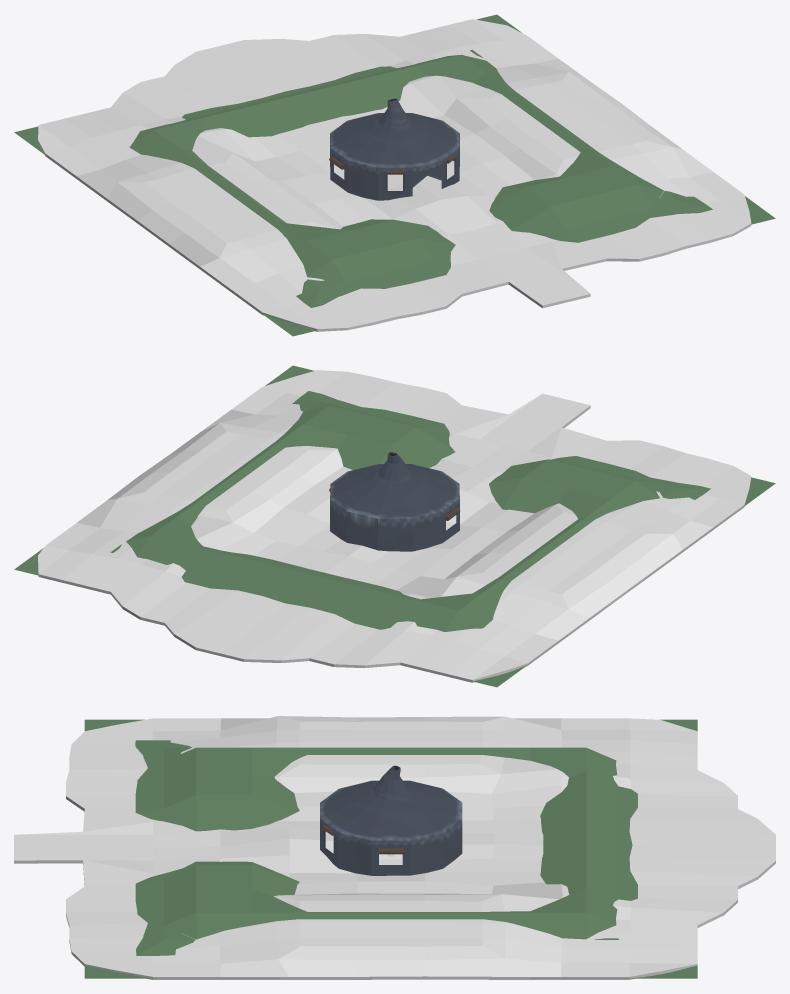
The model's file is lobi.glb.
3 renders of one model, top to bottom at view 1: azimuth 30°, elevation 25°; view 2: azimuth 150°, elevation 25°; view 3: azimuth 270°, elevation 25°, orthographic. The views are drawn at different scales.
Visible parts, largest first — view 1: Lobi_Terrain, Plane, RoundHouse; view 2: Lobi_Terrain, Plane, RoundHouse; view 3: Lobi_Terrain, Plane, RoundHouse.
Part boxes in pixels (x1,y1,x2,y2): Lobi_Terrain: (38,19,751,331); Plane: (14,14,775,336); RoundHouse: (329,98,460,200); Lobi_Terrain: (38,370,751,682); Plane: (14,365,775,687); RoundHouse: (329,452,460,551); Lobi_Terrain: (14,716,775,979); Plane: (84,719,697,978); RoundHouse: (320,765,462,875).
Bounding box in the file's own units: 100 × 16.7 × 124.
4 materials, 3 textured.
